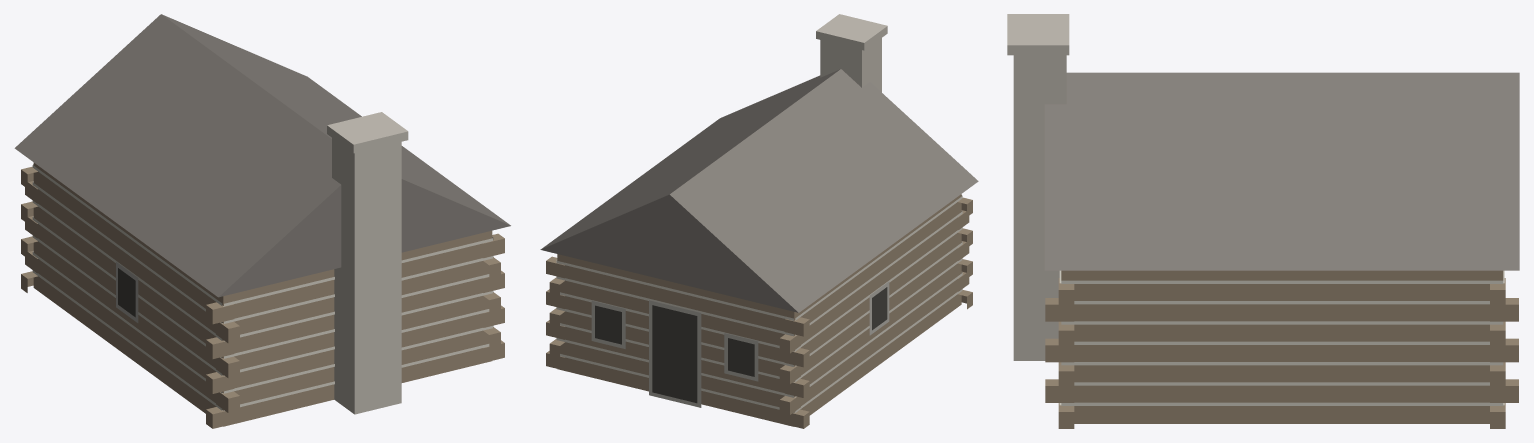
Rendered from recon_1835_west_026__inferred_1835.glb.
3 renders of one model, left to right at view 1: azimuth 30°, elevation 25°; view 2: azimuth 150°, elevation 25°; view 3: azimuth 270°, elevation 25°, orthographic. The views are drawn at different scales.
Parts seen in each view (by area): view 1: recon_1835_west_026__inferred_1835; view 2: recon_1835_west_026__inferred_1835; view 3: recon_1835_west_026__inferred_1835.
Boxes of the visible parts, x1,y1,x2,y2 form: recon_1835_west_026__inferred_1835: (14,14,510,428); recon_1835_west_026__inferred_1835: (540,14,978,428); recon_1835_west_026__inferred_1835: (1007,14,1519,428).
Bounding box in the file's own units: 5.99 × 5.39 × 7.78.
